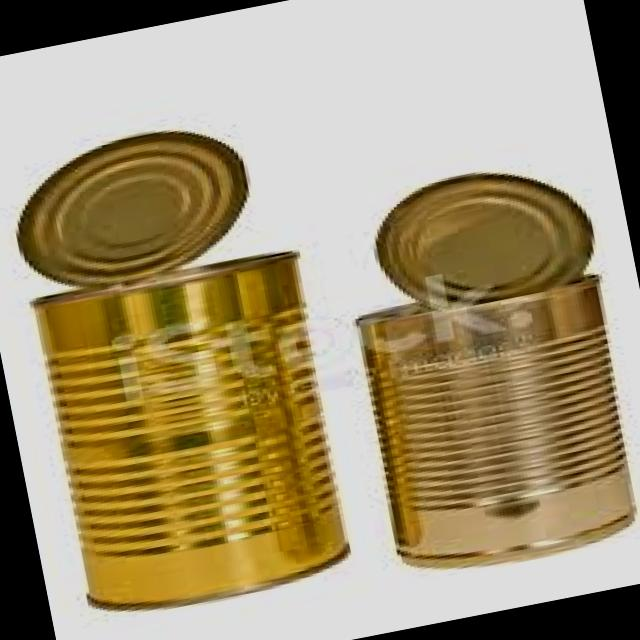metal: (34, 253, 347, 608), (360, 277, 634, 567), (18, 132, 248, 288), (376, 174, 594, 308)
